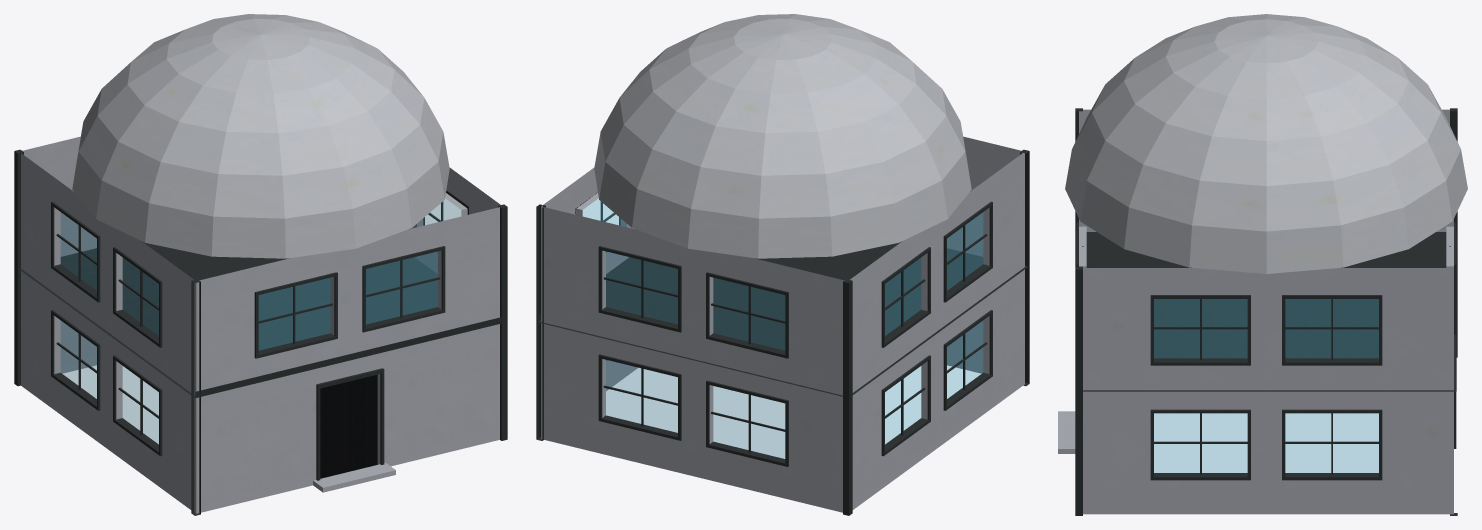
Rendered from future_dome_01.glb.
The picture shows the model from 3 angles, left to right: view 1: azimuth 30°, elevation 25°; view 2: azimuth 150°, elevation 25°; view 3: azimuth 270°, elevation 25°; orthographic projection. The views are drawn at different scales.
Visible parts, largest first — view 1: future_dome_01; view 2: future_dome_01; view 3: future_dome_01.
Part boxes in pixels (x1,y1,x2,y2): future_dome_01: [14, 14, 507, 515]; future_dome_01: [536, 14, 1029, 515]; future_dome_01: [1058, 14, 1467, 515].
Size of the model in its own units: 8.6 by 9.4 by 8.75.
5 materials, 4 textured.
